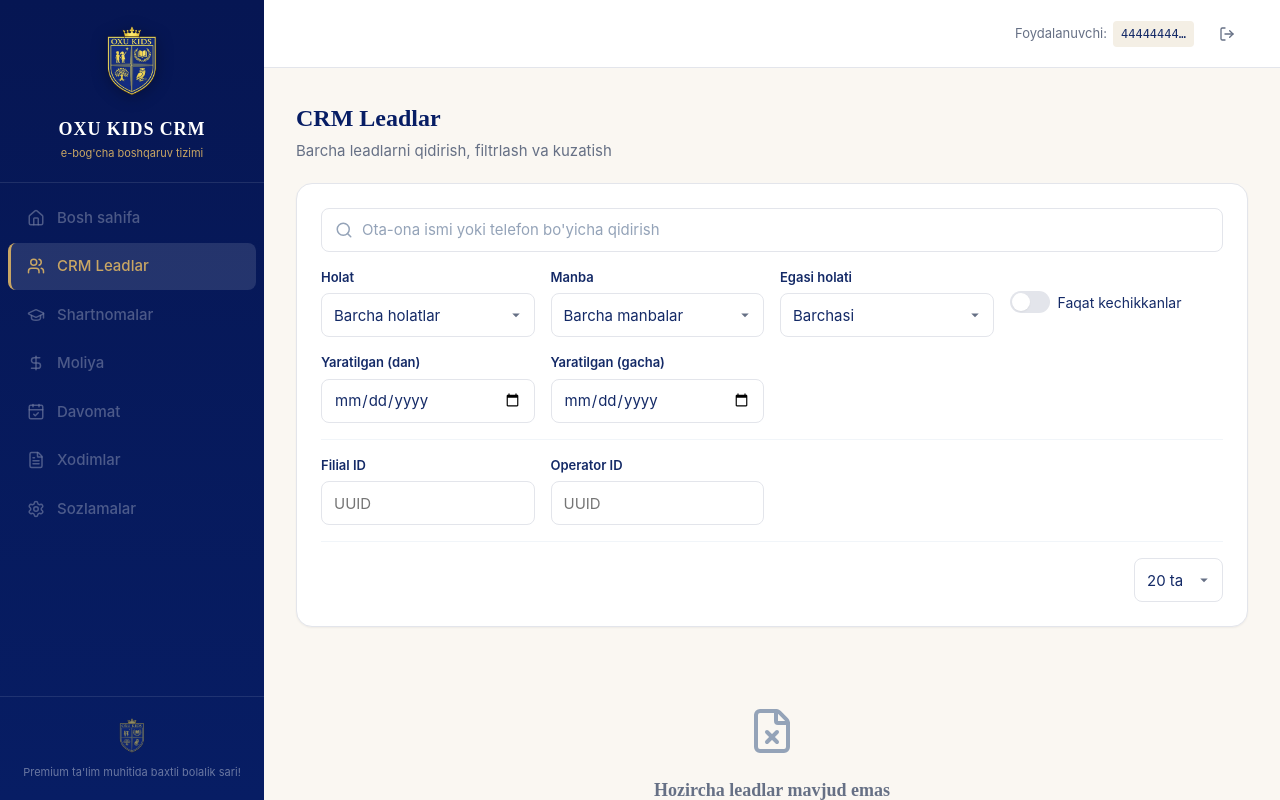
Test: Search input debounce and API requests › pasted two-character text works
Expected: the text "CRM Leadlar" is shown, [57,255,149,278]
Click the field with placeholder "Ota-ona ismi yoki telefon bo'yicha qidirish" at (772, 230), box [321,208,1223,252]
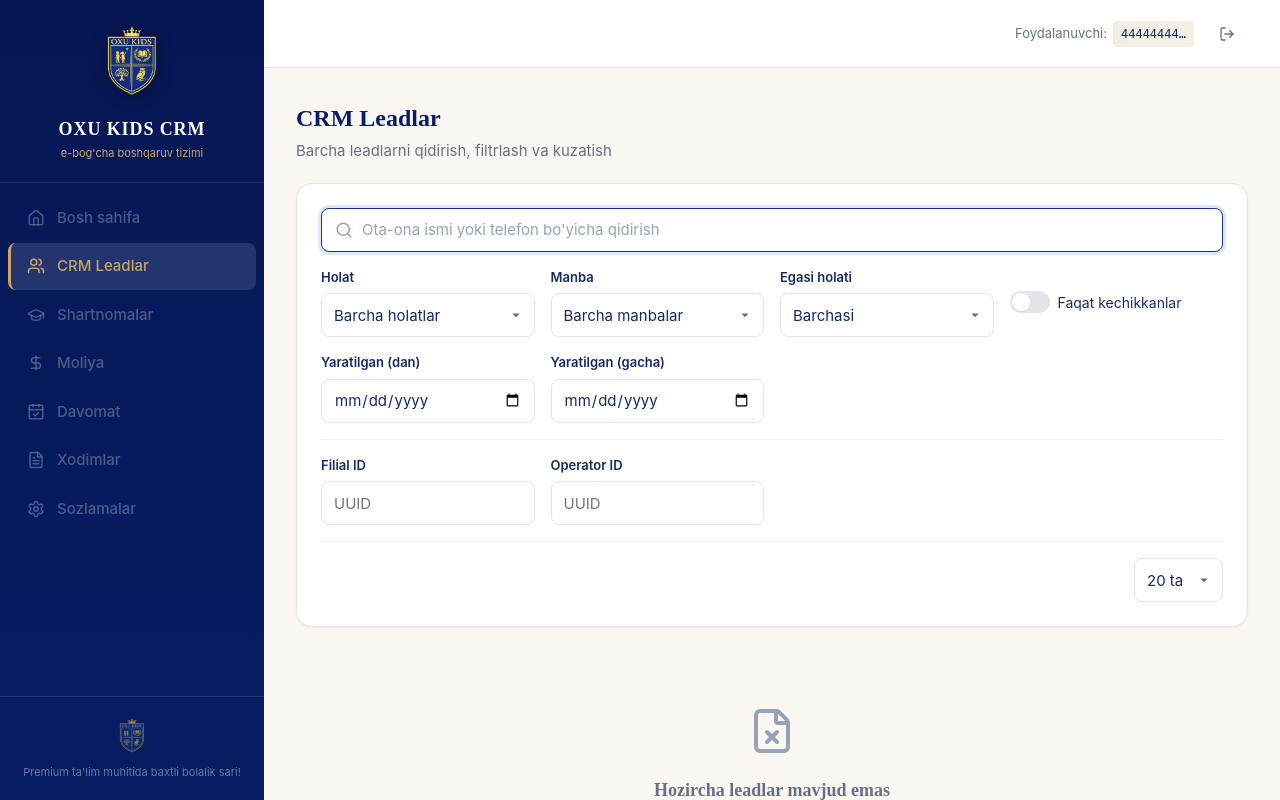
Type keys "Ali"
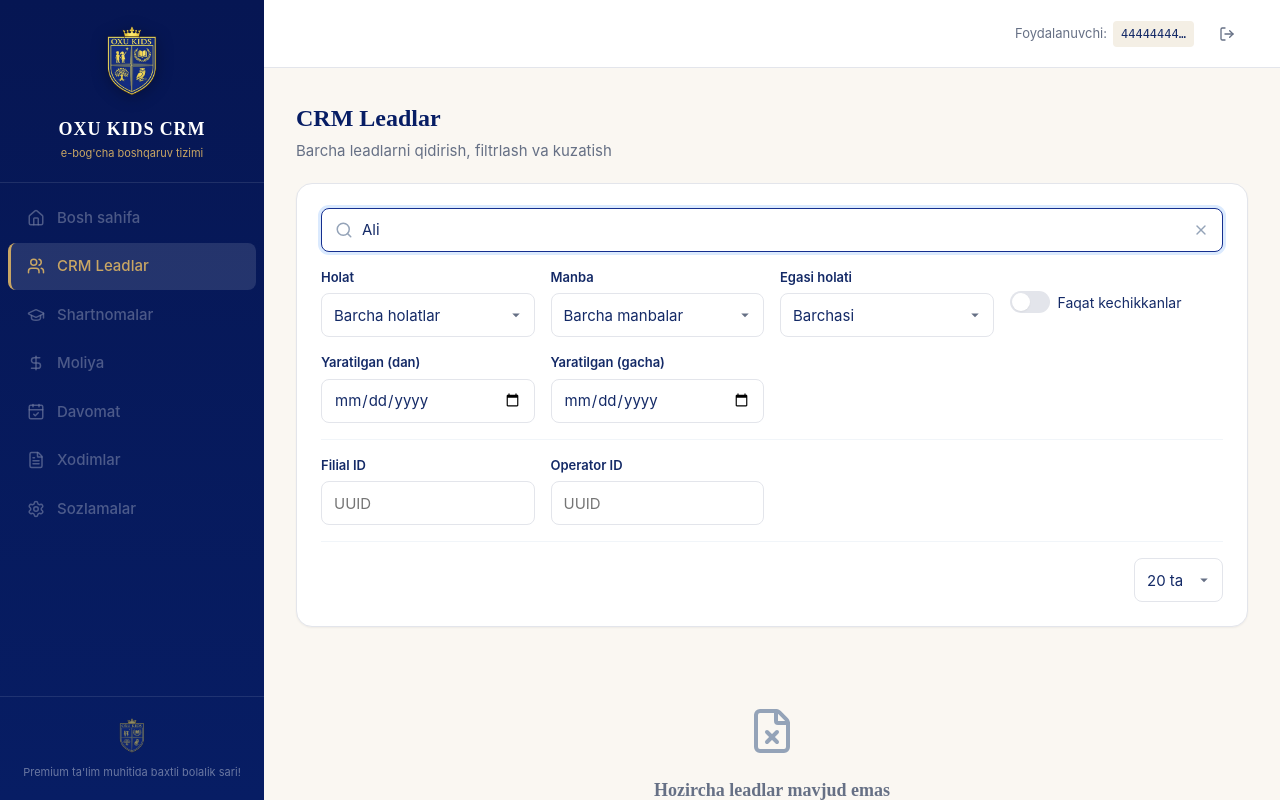
Expected: the field with placeholder "Ota-ona ismi yoki telefon bo'yicha qidirish" holds "Ali", [321,208,1223,252]
